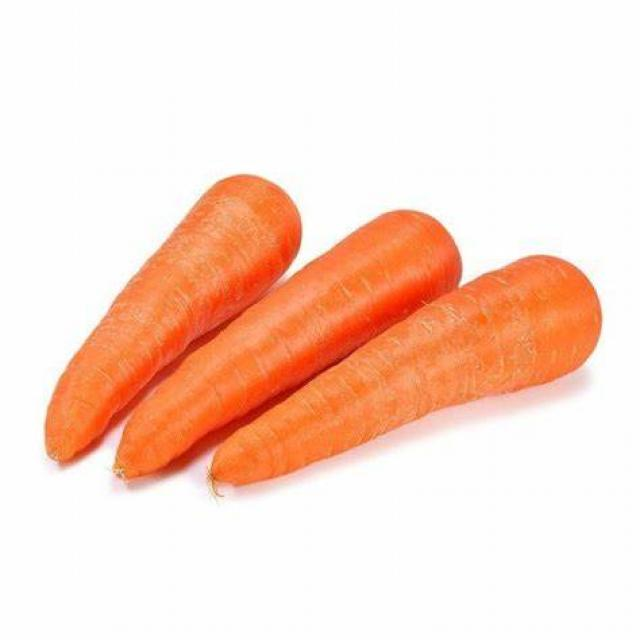Carrot: (207, 248, 603, 494), (117, 207, 470, 479), (38, 166, 308, 473)
